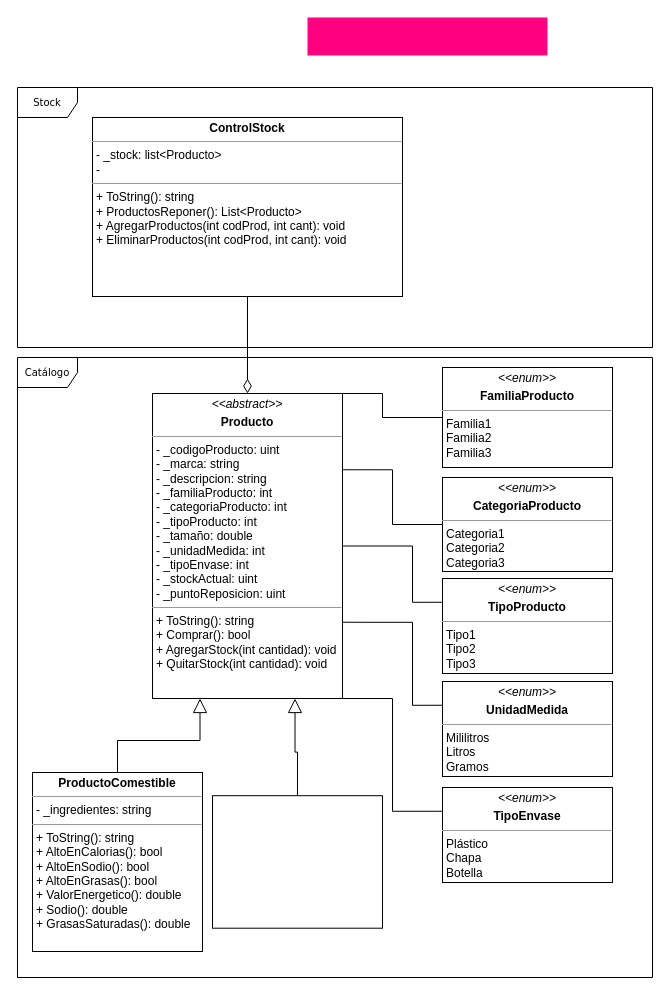
Some shapes in this 670 by 995 pixel diagram are drawn without their labels. The box of each missing label's shape, as (x1, y1, x2, y2) in pixels:
Ejercicio ALMACEN: (307, 17, 547, 55)
ProductoLimpieza - _materiales: string + ToString(): string: (212, 795, 382, 928)
